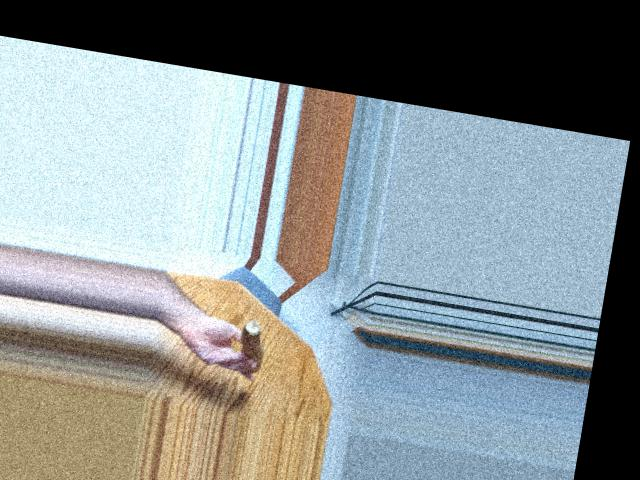sweet_potato: (222, 310, 272, 376)
